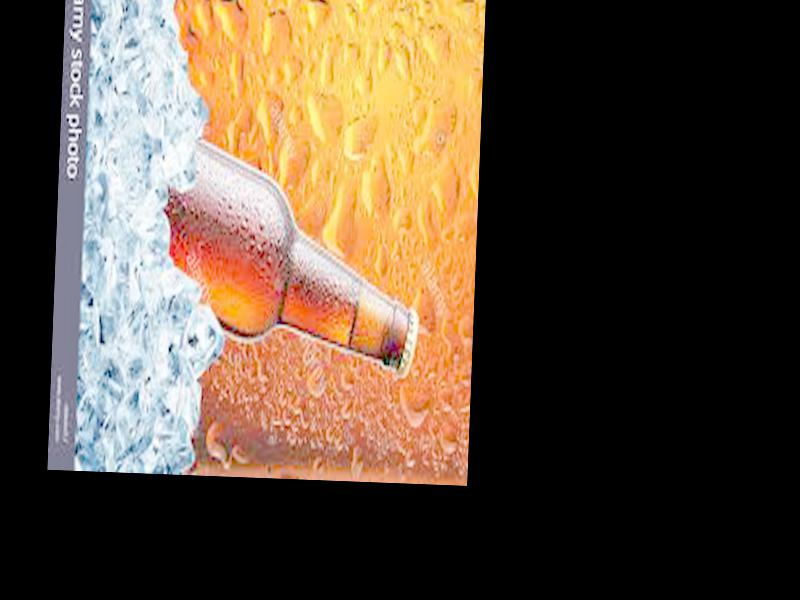Beer: (155, 141, 425, 390)
